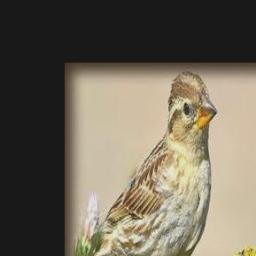Sparrow: (83, 72, 217, 256)
